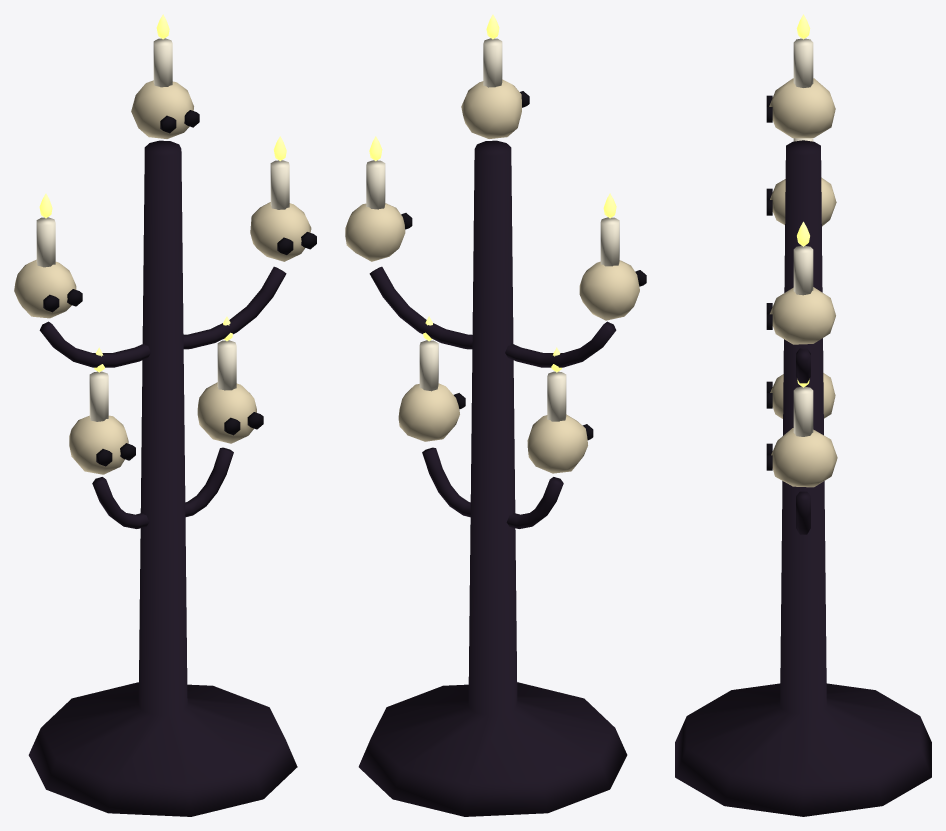
The model's file is skull_chandelier.glb.
3 views of the same model, side by side, from view 1: azimuth 30°, elevation 25°; view 2: azimuth 150°, elevation 25°; view 3: azimuth 270°, elevation 25° (orthographic).
Visible parts, largest first — view 1: skull_chandelier; view 2: skull_chandelier; view 3: skull_chandelier.
Boxes of the visible parts, x1=… form: skull_chandelier: x1=14, y1=14, x2=316, y2=816; skull_chandelier: x1=345, y1=14, x2=646, y2=816; skull_chandelier: x1=675, y1=14, x2=931, y2=816.
Bounding box in the file's own units: 0.5383 × 1.34 × 0.4185.
